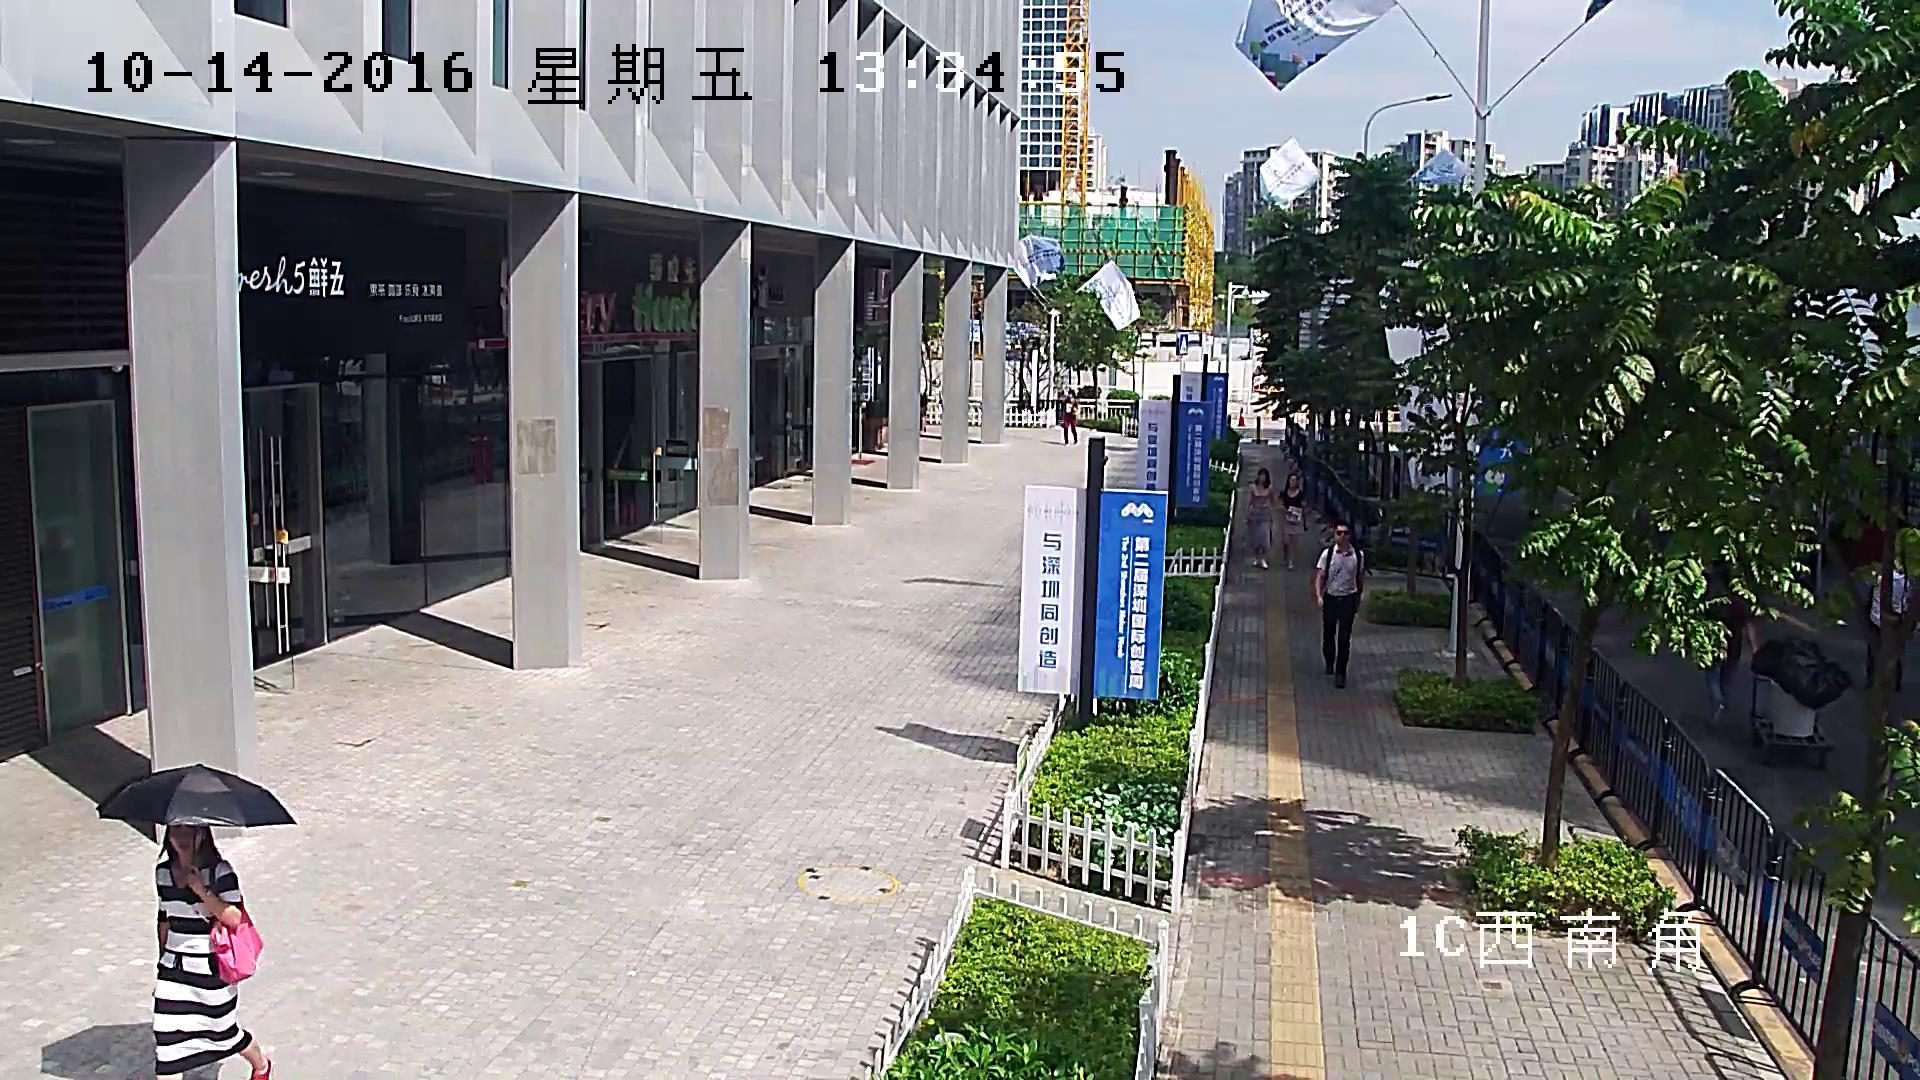person: (97, 764, 296, 1080), (1699, 561, 1850, 769), (152, 824, 270, 1080), (1699, 561, 1756, 724), (1315, 520, 1364, 689), (1866, 565, 1911, 692), (1278, 473, 1307, 570), (1247, 467, 1274, 568), (1063, 390, 1078, 443)
